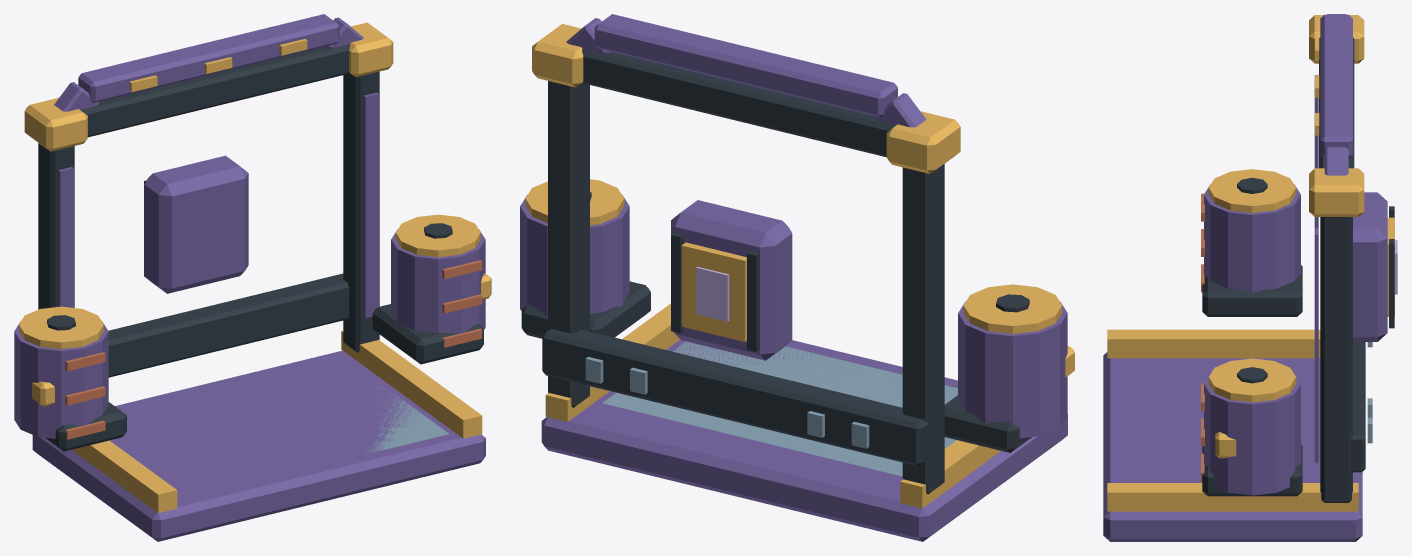
Rendered from story_capture_carrier_v01.glb.
3 renders of one model, left to right at view 1: azimuth 30°, elevation 25°; view 2: azimuth 150°, elevation 25°; view 3: azimuth 270°, elevation 25°, orthographic. The views are drawn at different scales.
Visible parts, largest first — view 1: Open front Octocat capture carrier; view 2: Open front Octocat capture carrier; view 3: Open front Octocat capture carrier.
Boxes of the visible parts, x1=… form: Open front Octocat capture carrier: x1=14, y1=14, x2=491, y2=541; Open front Octocat capture carrier: x1=520, y1=14, x2=1074, y2=541; Open front Octocat capture carrier: x1=1103, y1=14, x2=1397, y2=541.
Bounding box in the file's own units: 3.37 × 2.62 × 1.82.
Materials: 1 (1 with a texture image).
